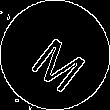M_NE: (21, 21, 89, 89)
